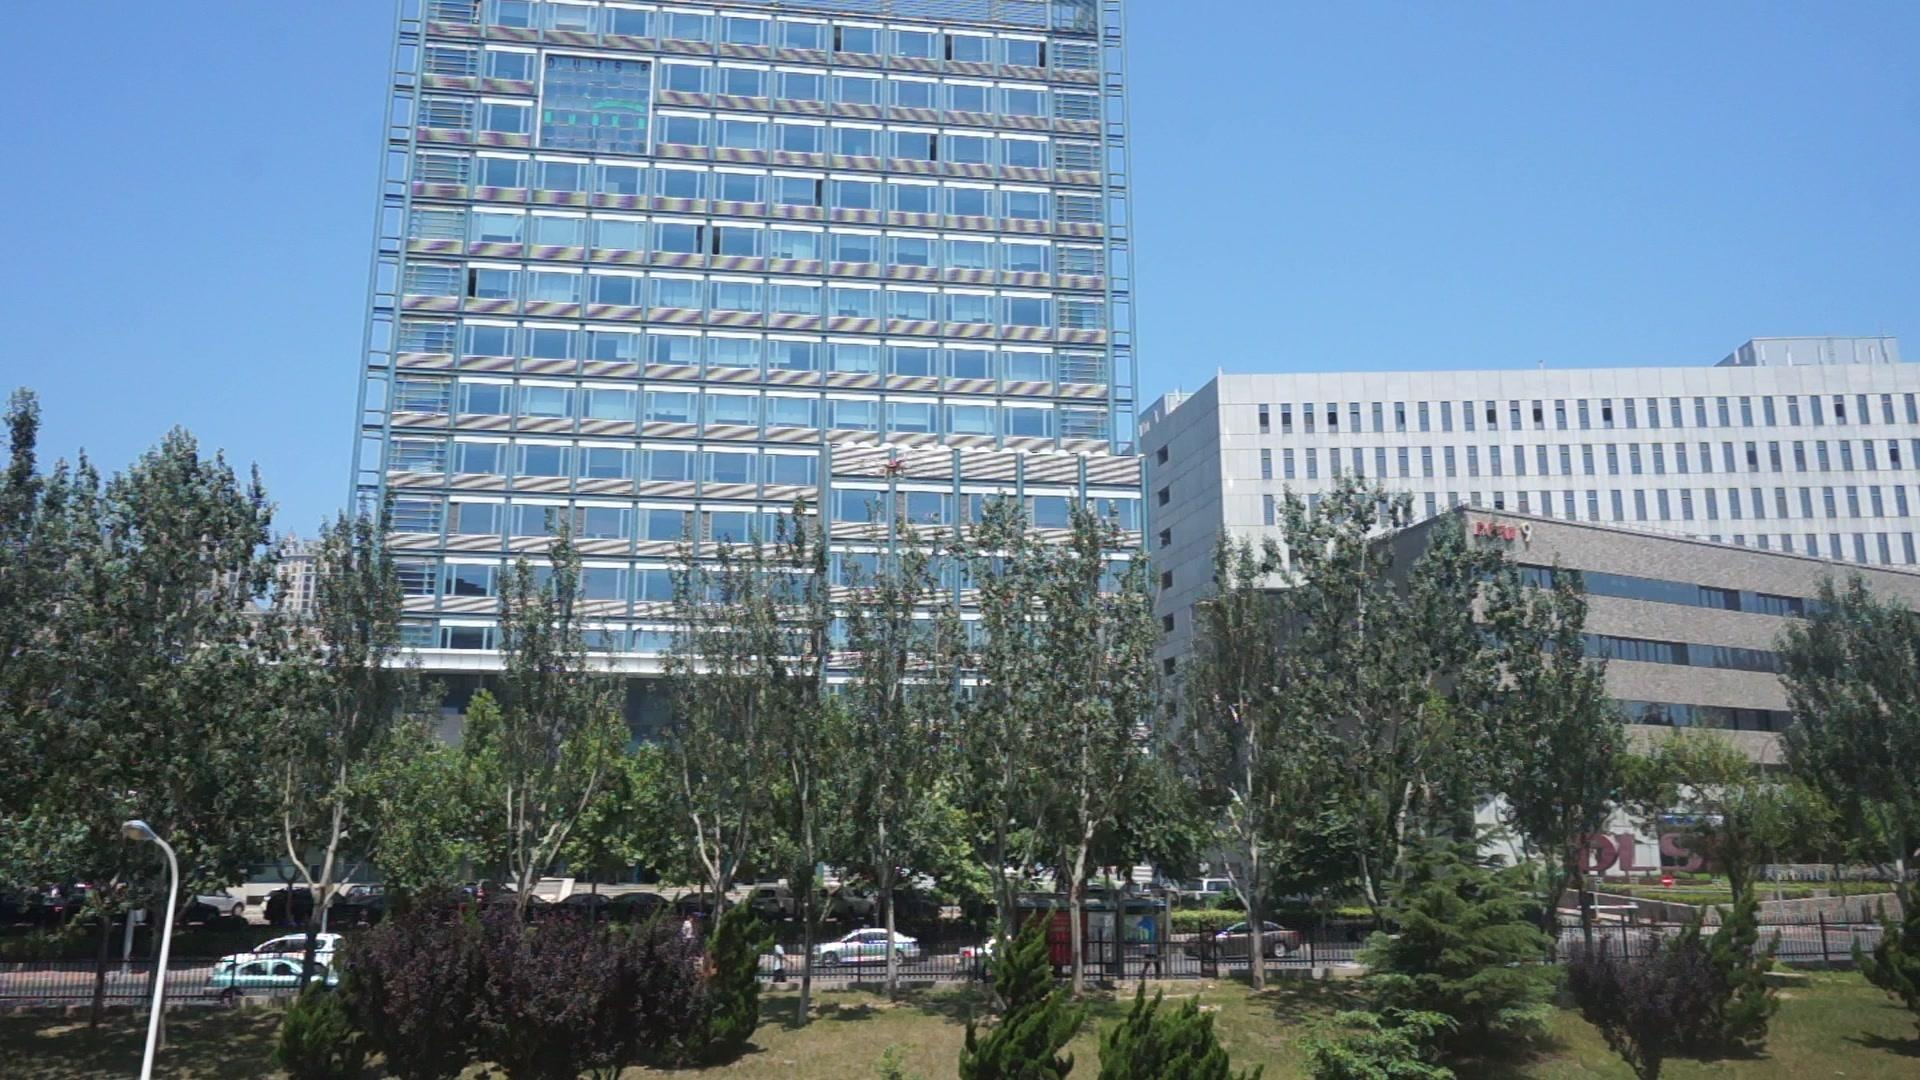UAV: (858, 452, 924, 481)
